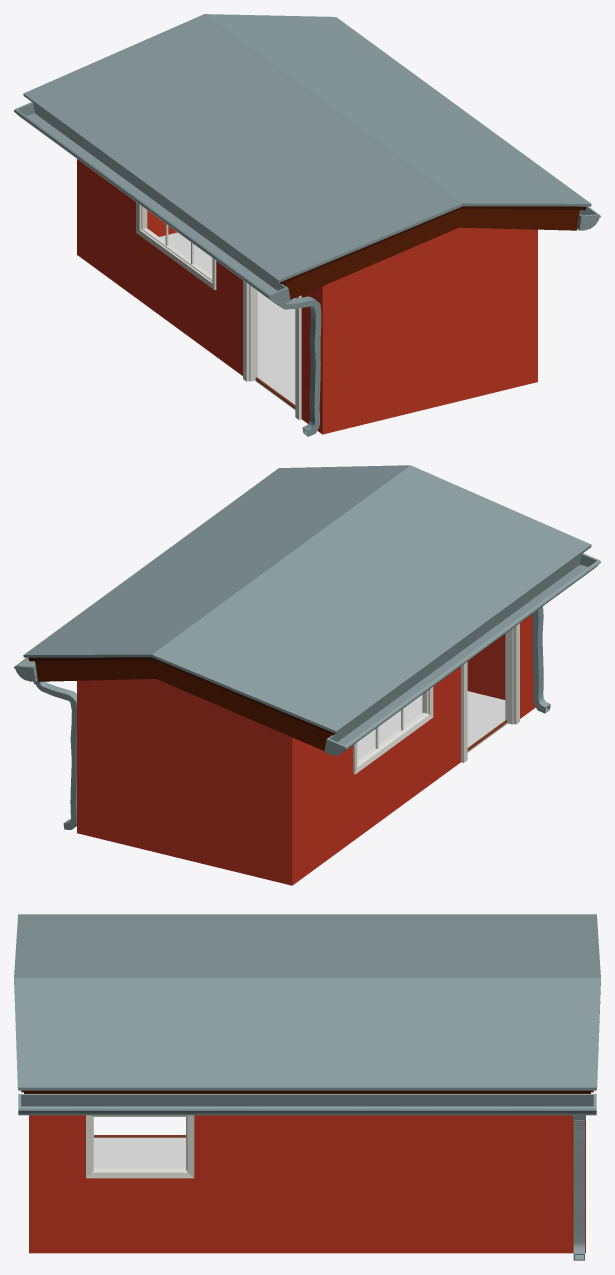
The model's file is House(5).fbx.
3 views of the same model, one above another, from view 1: azimuth 30°, elevation 25°; view 2: azimuth 150°, elevation 25°; view 3: azimuth 270°, elevation 25° (orthographic). The views are drawn at different scales.
Parts seen in each view (by area): view 1: Roof, Walls, Floor; view 2: Roof, Walls, Floor; view 3: Roof, Walls, Floor.
Boxes of the visible parts, x1,y1,x2,y2 form: Roof: (14,14,600,436); Walls: (77,159,537,434); Floor: (159,232,295,409); Roof: (14,465,600,829); Walls: (77,614,535,885); Floor: (357,691,507,759); Roof: (14,914,600,1260); Walls: (29,1115,585,1253); Floor: (94,1135,185,1168).
Bounding box in the file's own units: 1264 × 742 × 1707.
